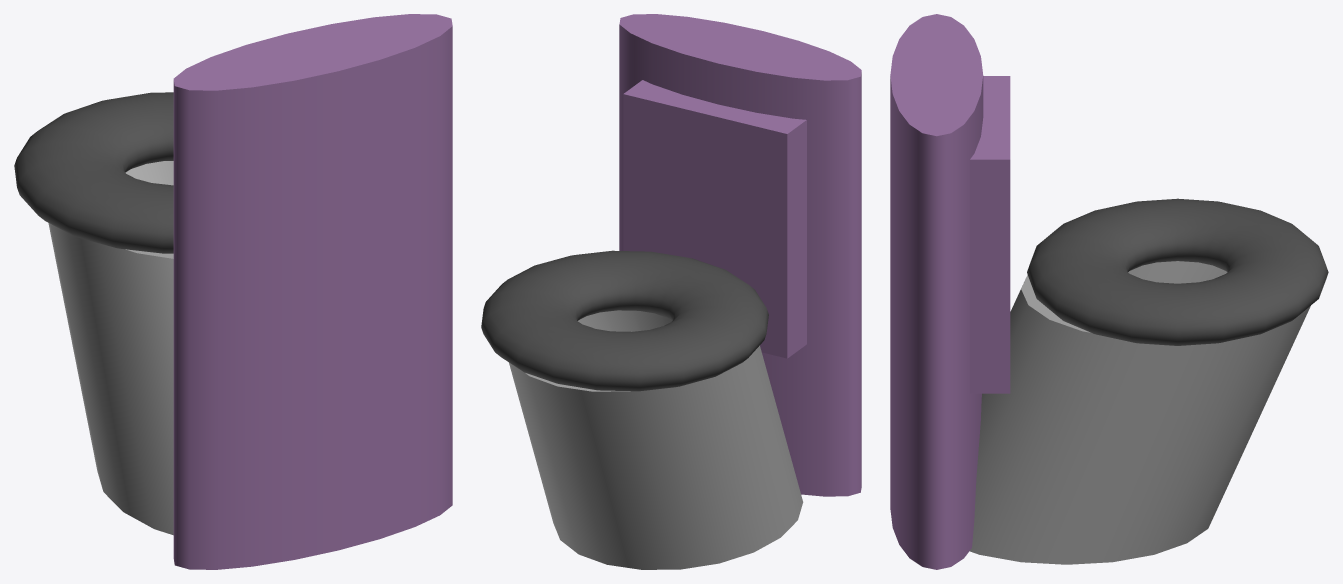
Rendered from Toilet.fbx.
The picture shows the model from 3 angles, left to right: view 1: azimuth 30°, elevation 25°; view 2: azimuth 150°, elevation 25°; view 3: azimuth 270°, elevation 25°; orthographic projection. The views are drawn at different scales.
Visible parts, largest first — view 1: pCube2, pPipe1, pTorus1; view 2: pCube2, pPipe1, pTorus1; view 3: pPipe1, pCube2, pTorus1.
Boxes of the visible parts, left/top/right/bottom form: pCube2: left=173, top=14, right=452, bottom=569; pPipe1: left=48, top=161, right=173, bottom=535; pTorus1: left=14, top=92, right=173, bottom=253; pCube2: left=619, top=14, right=861, bottom=496; pPipe1: left=509, top=310, right=803, bottom=569; pTorus1: left=481, top=250, right=768, bottom=391; pPipe1: left=970, top=261, right=1310, bottom=564; pCube2: left=890, top=14, right=1010, bottom=569; pTorus1: left=1027, top=198, right=1328, bottom=345.
Bounding box in the file's own units: 3 × 4.8 × 4.36.
